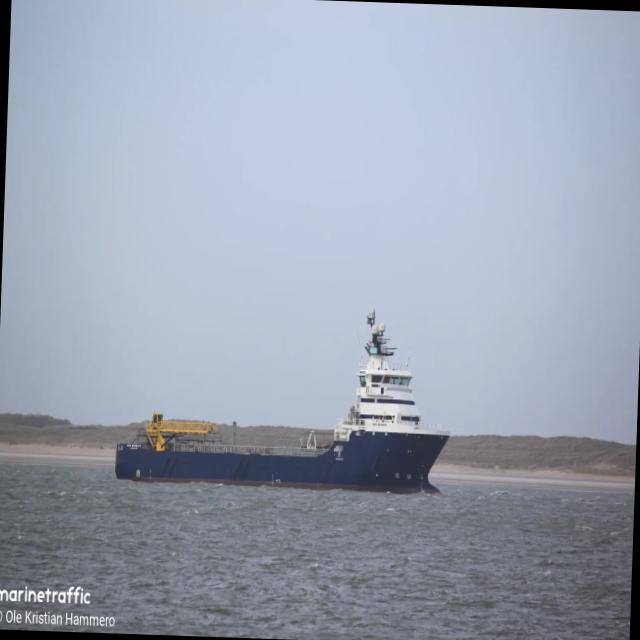Offshore: (116, 310, 450, 493)
